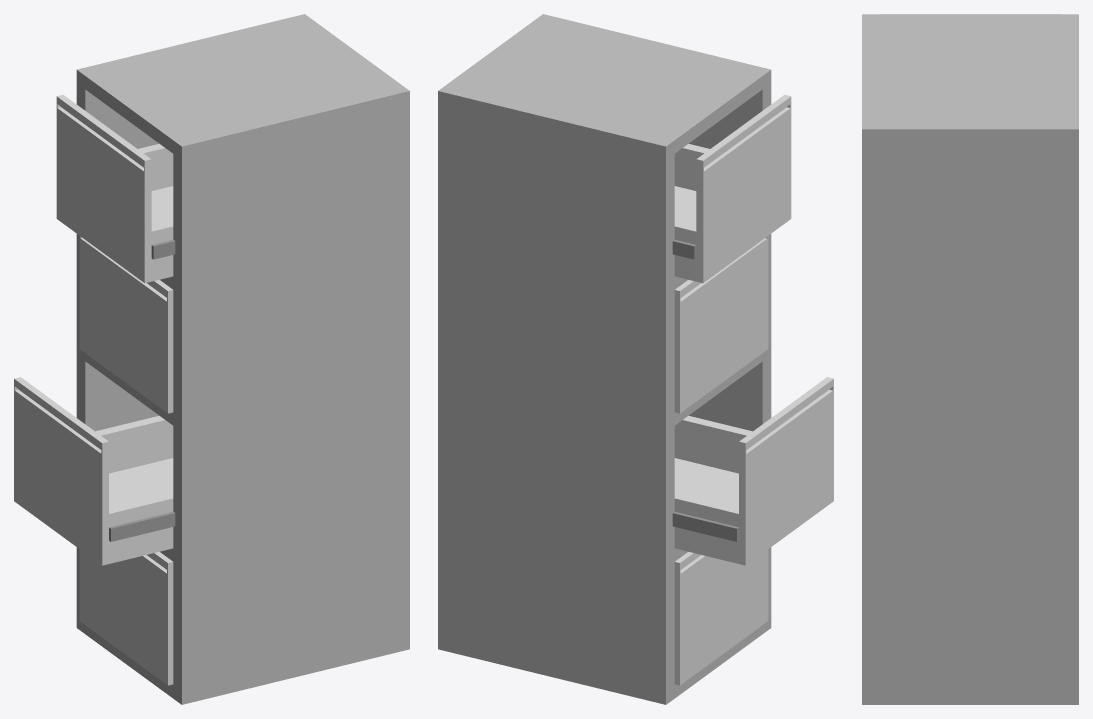
File: F_Shelf_02.fbx
3 views of the same model, side by side, from view 1: azimuth 30°, elevation 25°; view 2: azimuth 150°, elevation 25°; view 3: azimuth 270°, elevation 25° (orthographic). The views are drawn at different scales.
Visible parts, largest first — view 1: F_Shelf_02, F_Shelf_02_02, F_Shelf_02_04, F_Shelf_02_03, F_Shelf_02_01; view 2: F_Shelf_02, F_Shelf_02_02, F_Shelf_02_04, F_Shelf_02_03, F_Shelf_02_01; view 3: F_Shelf_02.
Part boxes in pixels (x1,y1,x2,y2): F_Shelf_02: (76, 14, 409, 704); F_Shelf_02_02: (14, 377, 175, 565); F_Shelf_02_04: (56, 94, 175, 283); F_Shelf_02_03: (79, 236, 173, 413); F_Shelf_02_01: (79, 549, 173, 685); F_Shelf_02: (438, 14, 771, 704); F_Shelf_02_02: (672, 377, 833, 565); F_Shelf_02_04: (672, 94, 791, 283); F_Shelf_02_03: (674, 236, 768, 413); F_Shelf_02_01: (674, 549, 768, 685); F_Shelf_02: (862, 14, 1078, 704).
Size of the model in its own units: 58.97 by 105 by 35.89.
1 material, 1 textured.
